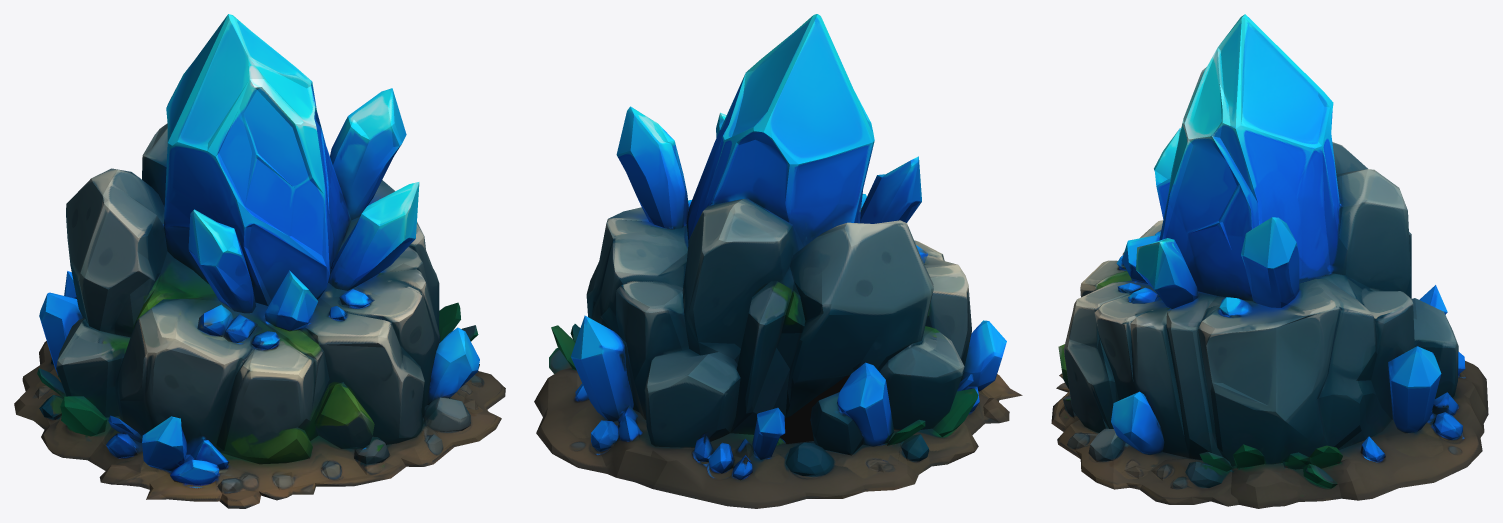
Rendered from SM_Ore14.fbx.
3 renders of one model, left to right at view 1: azimuth 30°, elevation 25°; view 2: azimuth 150°, elevation 25°; view 3: azimuth 270°, elevation 25°, orthographic. The views are drawn at different scales.
Visible parts, largest first — view 1: Ore14; view 2: Ore14; view 3: Ore14.
Part boxes in pixels (x1,y1,x2,y2): Ore14: (14, 14, 505, 508); Ore14: (534, 14, 1022, 508); Ore14: (1051, 14, 1488, 508).
Bounding box in the file's own units: 113 × 105 × 109.
1 material, 1 textured.
